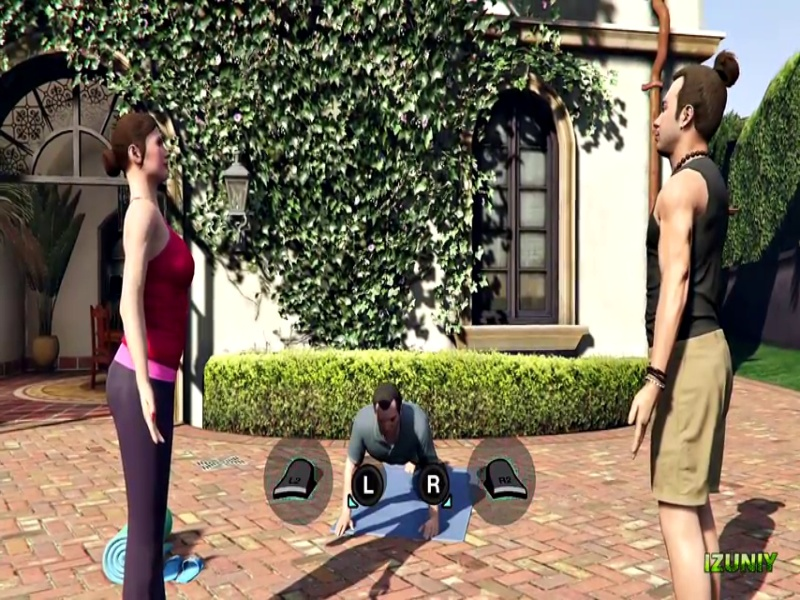licenseplate: (462, 343, 529, 383)
